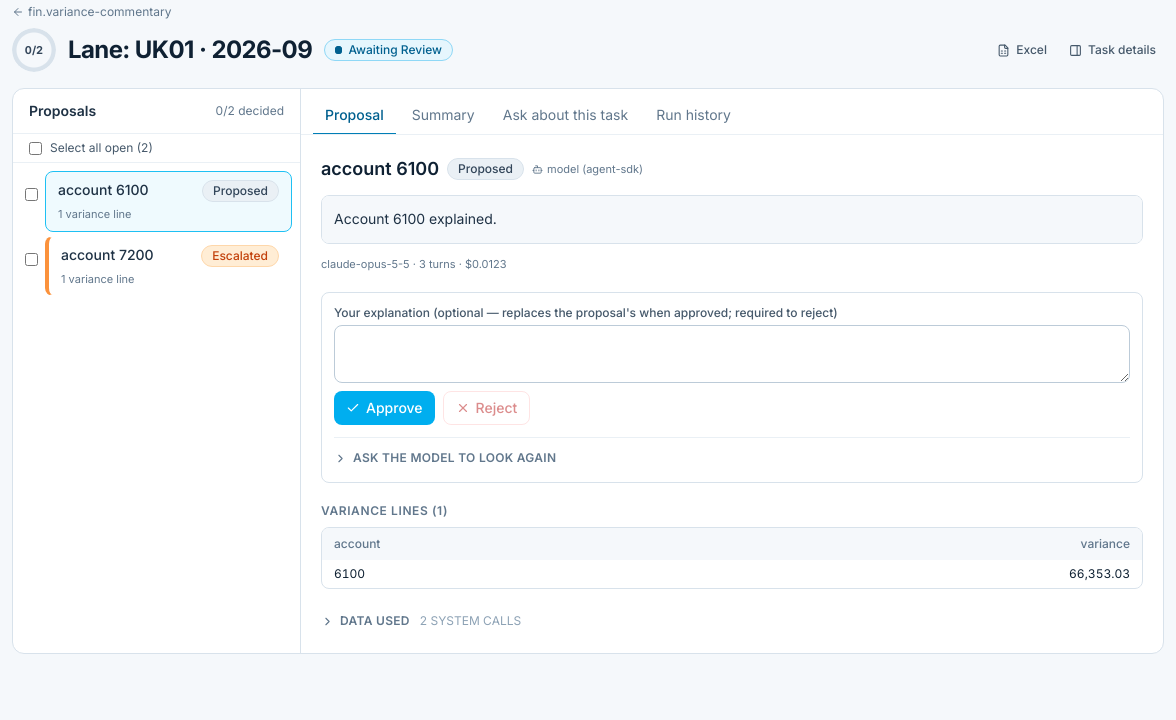
Test case: TaskWorkspace › records a decision with the reviewer's explanation and an idempotency key
Type "Payroll accrual" into the text box labelled "Your explanation". click: (732, 354)
box: [334,325,1130,383]
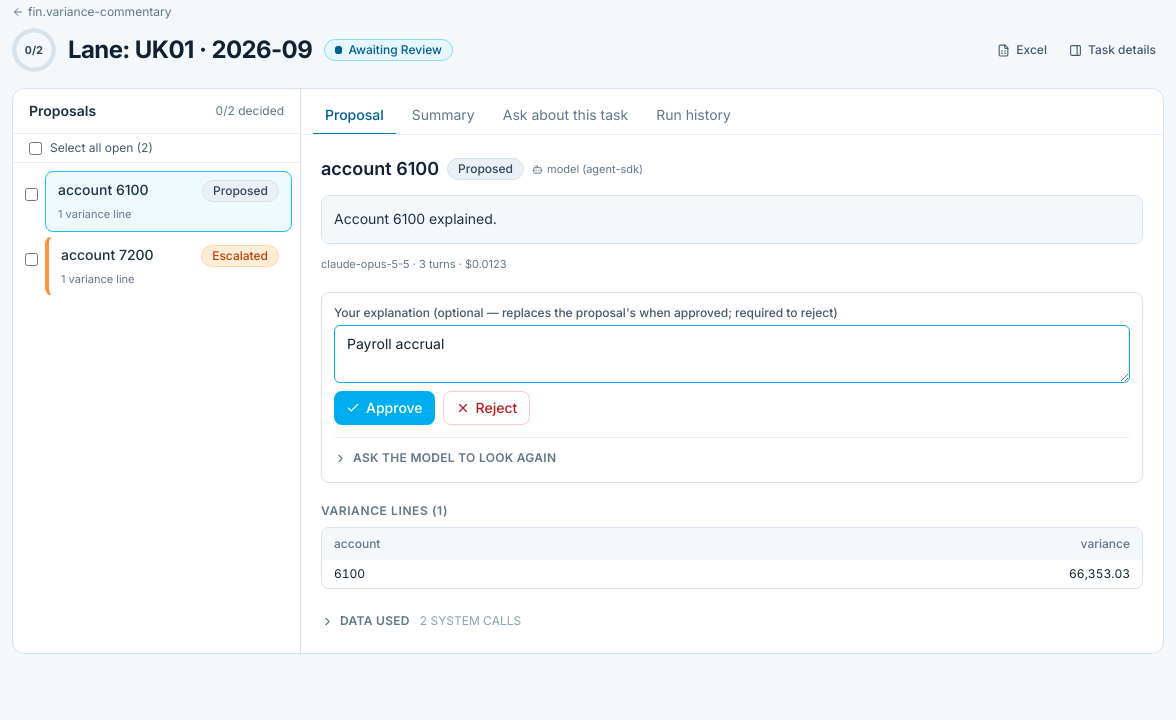
Click the button "Approve". click: (384, 408)
box: [334,391,435,425]
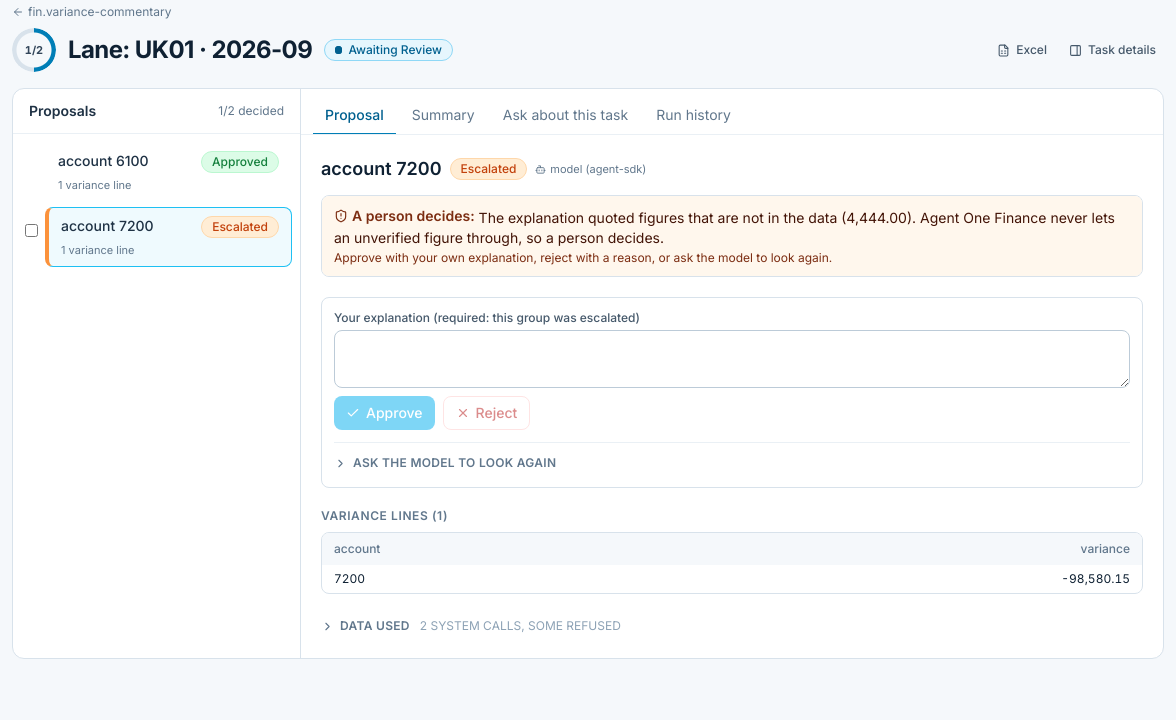
Check: the text "approved" is shown, box [201,151,279,173]
Check: the heading "account 7200" is shown, box [321,155,442,183]
Click the button "account 6100 approved 1 variance line". click: (168, 172)
box: [45,142,292,202]
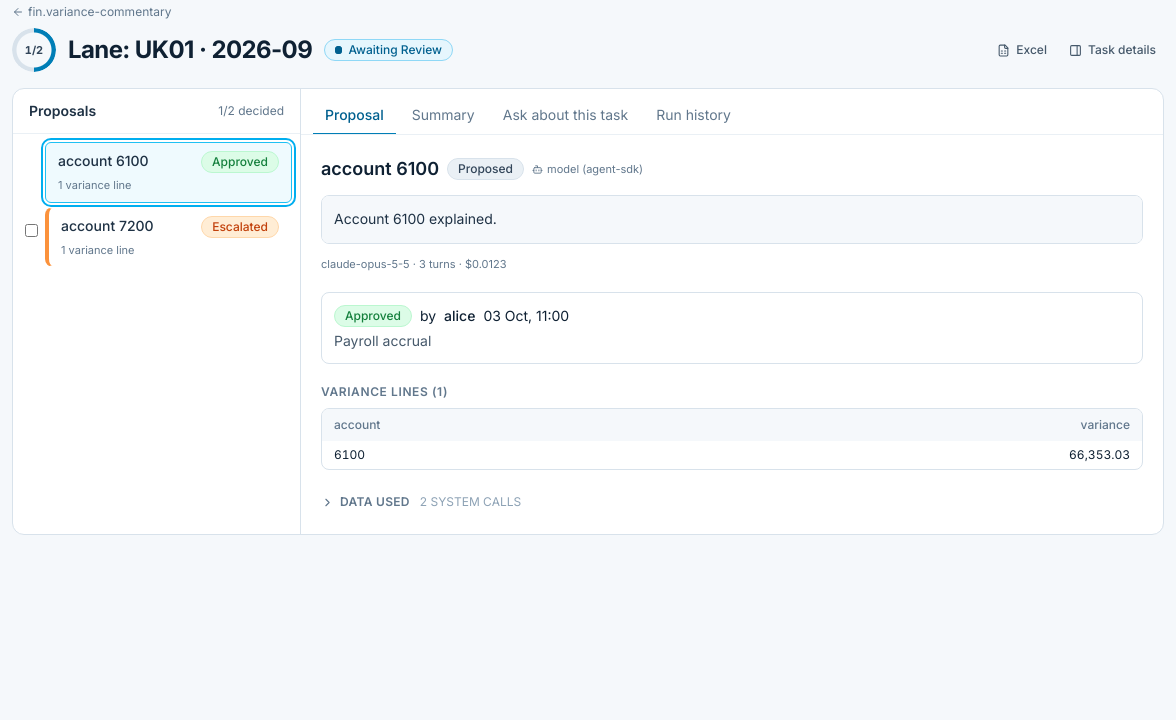
Check: the text "Payroll accrual" is shown, box [334,332,431,349]
